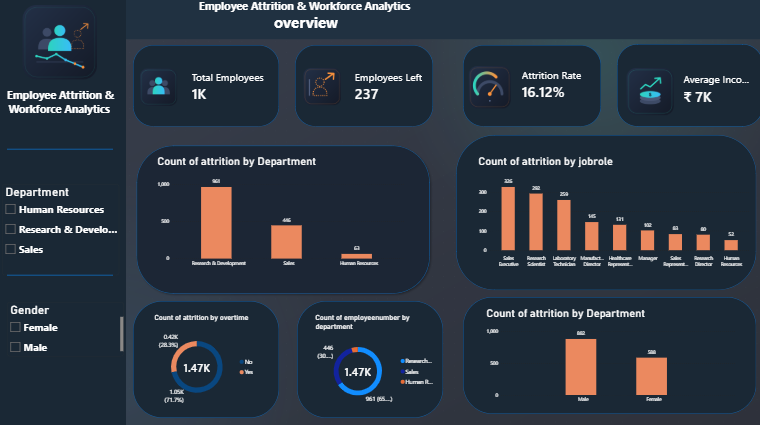

This screenshot's page, from the dashboard's own definition file:
{"tool":"powerbi","page":{"name":"Page 2","canvas":[1920,1080],"ordinal":1},"visuals":[{"type":"shape","box":[0,0,327.6,1080.9],"z":0},{"type":"textbox","box":[0,221.7,327.6,98.3],"z":1000},{"type":"image","box":[56,18,214,186],"z":2000},{"type":"slicer","fields":{"Values":["cleaned.department"]},"box":[17.5,435,277.5,120],"z":3000},{"type":"shape","box":[30.2,312.4,264.6,131],"z":4000},{"type":"shape","box":[327.6,0,1592.4,103.3],"z":5000},{"type":"shape","box":[345.2,118.4,365.4,204.1],"z":6000},{"type":"shape","box":[750.9,118.4,345.2,204.1],"z":7000},{"type":"shape","box":[1169.1,118.4,345.2,204.1],"z":8000},{"type":"shape","box":[1554.6,115.9,365.4,206.6],"z":9000},{"type":"image","box":[362.8,161.3,93.2,120.9],"z":10000},{"type":"cardVisual","fields":{"Data":["cleaned.Total Employees"]},"box":[476.2,161.3,214.2,120.9],"z":11000},{"type":"cardVisual","fields":{"Data":["cleaned.Employees Left"]},"box":[881.9,161.3,214.2,120.9],"z":12000},{"type":"image","box":[755.9,173.9,126,93.2],"z":13000},{"type":"cardVisual","fields":{"Data":["cleaned.Attrition Rate"]},"box":[1300.2,158.7,214.2,120.9],"z":14000},{"type":"image","box":[1151.5,168.8,168.8,105.8],"z":15000},{"type":"cardVisual","fields":{"Data":["cleaned.Average Income"]},"box":[1705,162.5,197.5,130],"z":16000},{"type":"image","box":[1569.8,173.9,136.1,118.4],"z":17000},{"type":"textbox","box":[362.5,0,830,102.5],"z":18000},{"type":"shape","box":[345.6,360,750.9,388],"z":19000},{"type":"shape","box":[345,757.5,752.5,292.5],"z":20000},{"type":"shape","box":[1169.1,748.3,733.2,292.3],"z":21000},{"type":"shape","box":[1151.5,342.7,750.9,388],"z":22000},{"type":"lineStackedColumnComboChart","title":"Attrition rate by JobRole","fields":{"Category":["cleaned.jobrole"],"Y":["cleaned.Attrition Rate"]},"box":[390,377.5,665,315],"z":23000},{"type":"clusteredBarChart","title":"Satisfaction By Jobrole","fields":{"Category":["cleaned.jobrole"],"Y":["Avg(cleaned.jobsatisfaction)"]},"box":[1192.5,377.5,675,315],"z":24000},{"type":"barChart","title":"Average Income by Department","fields":{"Category":["cleaned.department"],"Y":["cleaned.Average Income"]},"box":[1212,758,654,276],"z":25000},{"type":"slicer","fields":{"Values":["cleaned.gender"]},"box":[17.5,595,292.3,136.1],"z":26000},{"type":"slicer","fields":{"Values":["cleaned.jobrole"]},"box":[17.5,747.5,292.5,120],"z":27000},{"type":"slicer","fields":{"Values":["cleaned.overtime"]},"box":[17.5,895,292.3,136.1],"z":28000},{"type":"lineStackedColumnComboChart","fields":{"Category":["cleaned.department"],"Y":["CountNonNull(cleaned.employeenumber)"],"Y2":["cleaned.Attrition Rate"]},"box":[380,780,677.5,250],"z":29000}]}

Visuals, with their boxes in screenshot pixels (x1, y1, x2, y2), scaled from the page's 1920x1080 canvas onto the 760x425 screenshot:
shape: rect(0, 0, 130, 424)
textbox: rect(0, 87, 130, 126)
image: rect(22, 7, 107, 80)
slicer - cleaned.department: rect(7, 171, 117, 218)
shape: rect(12, 123, 117, 174)
shape: rect(130, 0, 759, 41)
shape: rect(137, 47, 281, 127)
shape: rect(297, 47, 434, 127)
shape: rect(463, 47, 599, 127)
shape: rect(615, 46, 759, 127)
image: rect(144, 63, 180, 111)
cardVisual - cleaned.Total Employees: rect(188, 63, 273, 111)
cardVisual - cleaned.Employees Left: rect(349, 63, 434, 111)
image: rect(299, 68, 349, 105)
cardVisual - cleaned.Attrition Rate: rect(515, 62, 599, 110)
image: rect(456, 66, 523, 108)
cardVisual - cleaned.Average Income: rect(675, 64, 753, 115)
image: rect(621, 68, 675, 115)
textbox: rect(143, 0, 472, 40)
shape: rect(137, 142, 434, 294)
shape: rect(137, 298, 434, 413)
shape: rect(463, 294, 753, 409)
shape: rect(456, 135, 753, 288)
"Attrition rate by JobRole" lineStackedColumnComboChart: rect(154, 149, 418, 273)
"Satisfaction By Jobrole" clusteredBarChart: rect(472, 149, 739, 273)
"Average Income by Department" barChart: rect(480, 298, 739, 407)
slicer - cleaned.gender: rect(7, 234, 123, 288)
slicer - cleaned.jobrole: rect(7, 294, 123, 341)
slicer - cleaned.overtime: rect(7, 352, 123, 406)
lineStackedColumnComboChart - cleaned.department x CountNonNull(cleaned.employeenumber): rect(150, 307, 419, 405)
